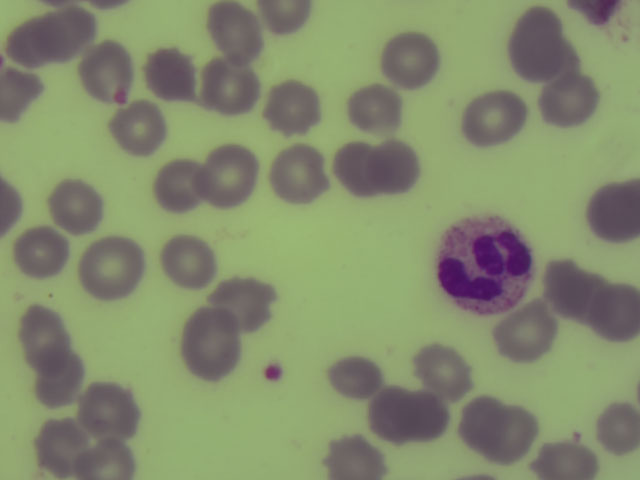P: (116, 92, 129, 102)
Platelets: (261, 364, 283, 384)
RBC: (494, 8, 579, 75), (178, 307, 244, 379), (203, 1, 271, 59), (79, 239, 148, 296), (204, 144, 264, 208), (265, 83, 335, 135), (151, 157, 221, 209), (81, 44, 151, 96), (141, 49, 211, 101), (213, 275, 283, 327), (443, 392, 513, 444), (478, 405, 548, 457), (534, 428, 604, 480), (415, 342, 485, 394), (542, 264, 612, 316), (489, 305, 559, 357), (321, 345, 391, 397), (262, 146, 332, 198), (532, 75, 602, 127), (339, 82, 409, 134), (375, 34, 445, 86), (461, 90, 531, 142), (588, 174, 640, 241), (332, 140, 387, 199), (164, 229, 217, 290), (204, 60, 263, 112), (593, 283, 640, 346), (372, 138, 422, 197), (327, 433, 388, 480), (117, 106, 171, 157), (35, 420, 89, 471), (46, 3, 100, 54), (33, 355, 87, 406), (21, 307, 75, 358), (48, 179, 102, 230), (15, 227, 69, 278), (85, 385, 139, 436), (81, 429, 135, 480), (407, 389, 456, 444), (7, 15, 52, 63), (1, 69, 42, 118), (601, 405, 640, 454), (373, 389, 409, 441), (258, 1, 313, 29), (571, 1, 621, 26), (1, 174, 21, 232)
WBC: (436, 218, 532, 314)
